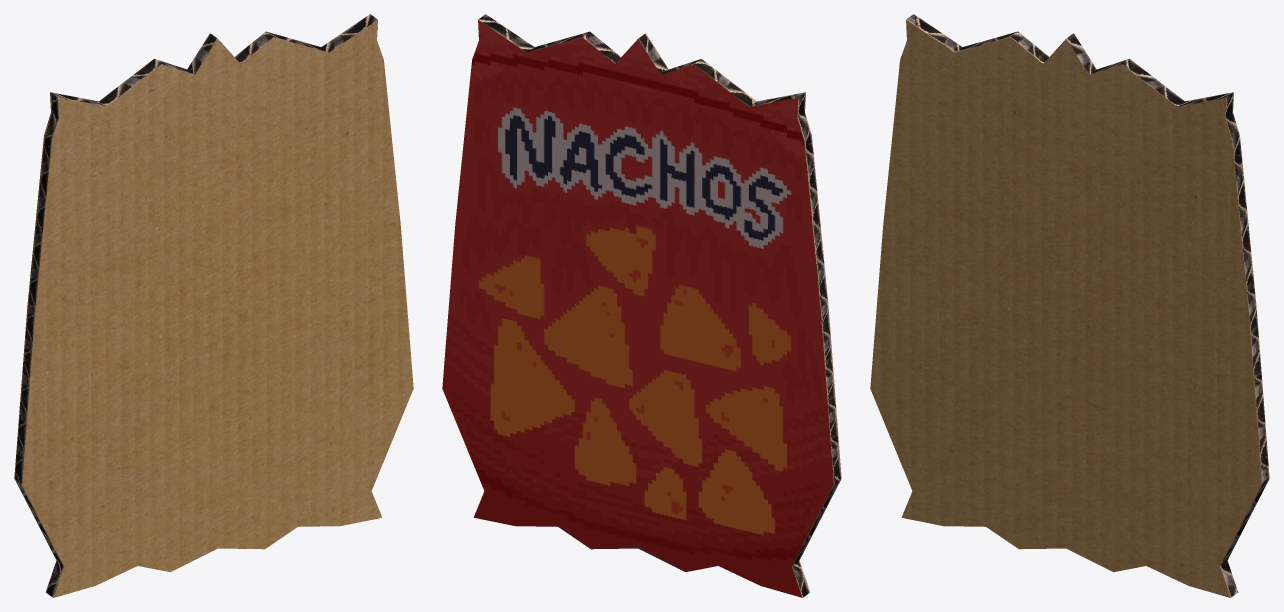
Rendered from NACHOS.glb.
The picture shows the model from 3 angles, left to right: view 1: azimuth 30°, elevation 25°; view 2: azimuth 150°, elevation 25°; view 3: azimuth 330°, elevation 25°; orthographic projection.
Parts seen in each view (by area): view 1: NACHOS; view 2: NACHOS; view 3: NACHOS.
Part boxes in pixels (x1,y1,x2,y2): NACHOS: [14, 14, 413, 597]; NACHOS: [442, 14, 841, 597]; NACHOS: [870, 14, 1269, 597].
Bounding box in the file's own units: 3.04 × 3.87 × 0.1041.
Materials: 1 (1 with a texture image).
